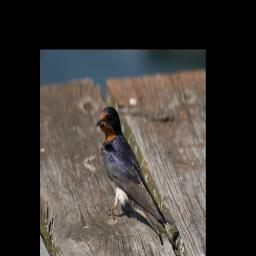Swallow: (96, 105, 180, 253)
